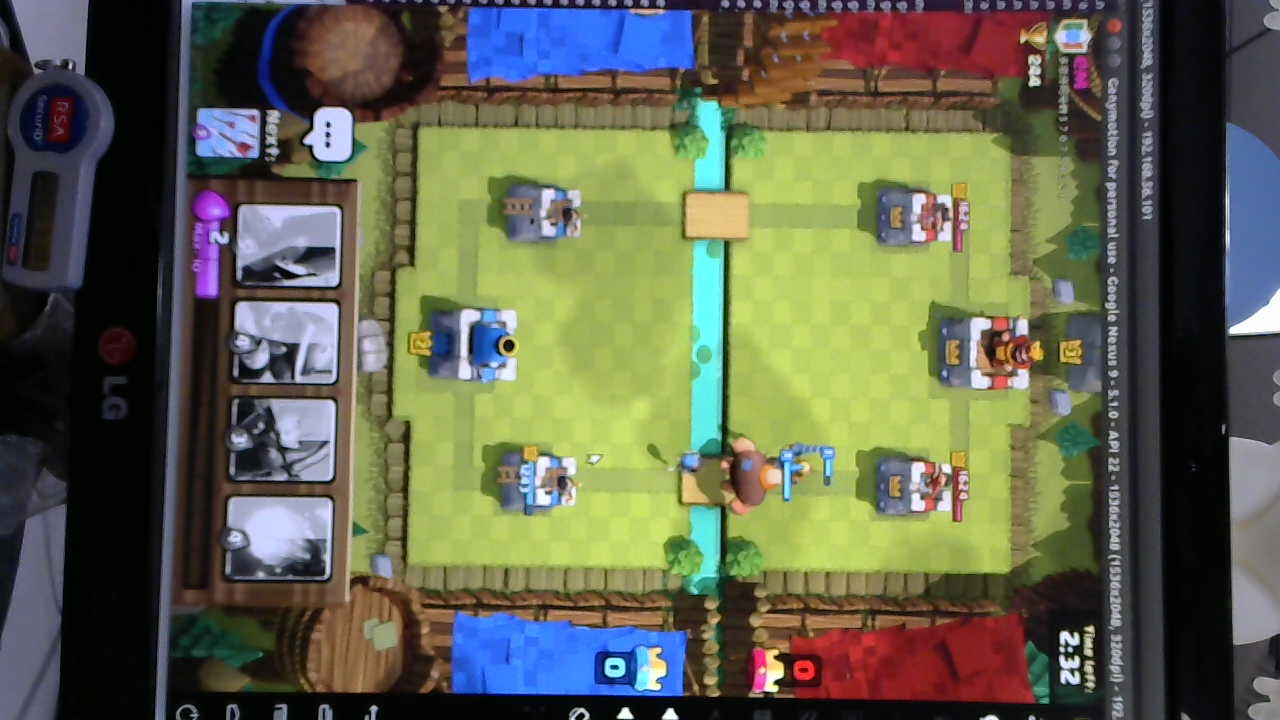arena: (502, 448, 579, 514), (502, 185, 578, 244)
bomb: (669, 447, 707, 477)
earena: (869, 452, 956, 520), (875, 187, 954, 247)
eking: (937, 310, 1041, 391)
giant: (723, 434, 782, 514)
king: (428, 301, 522, 387)
prince: (777, 436, 823, 491)
